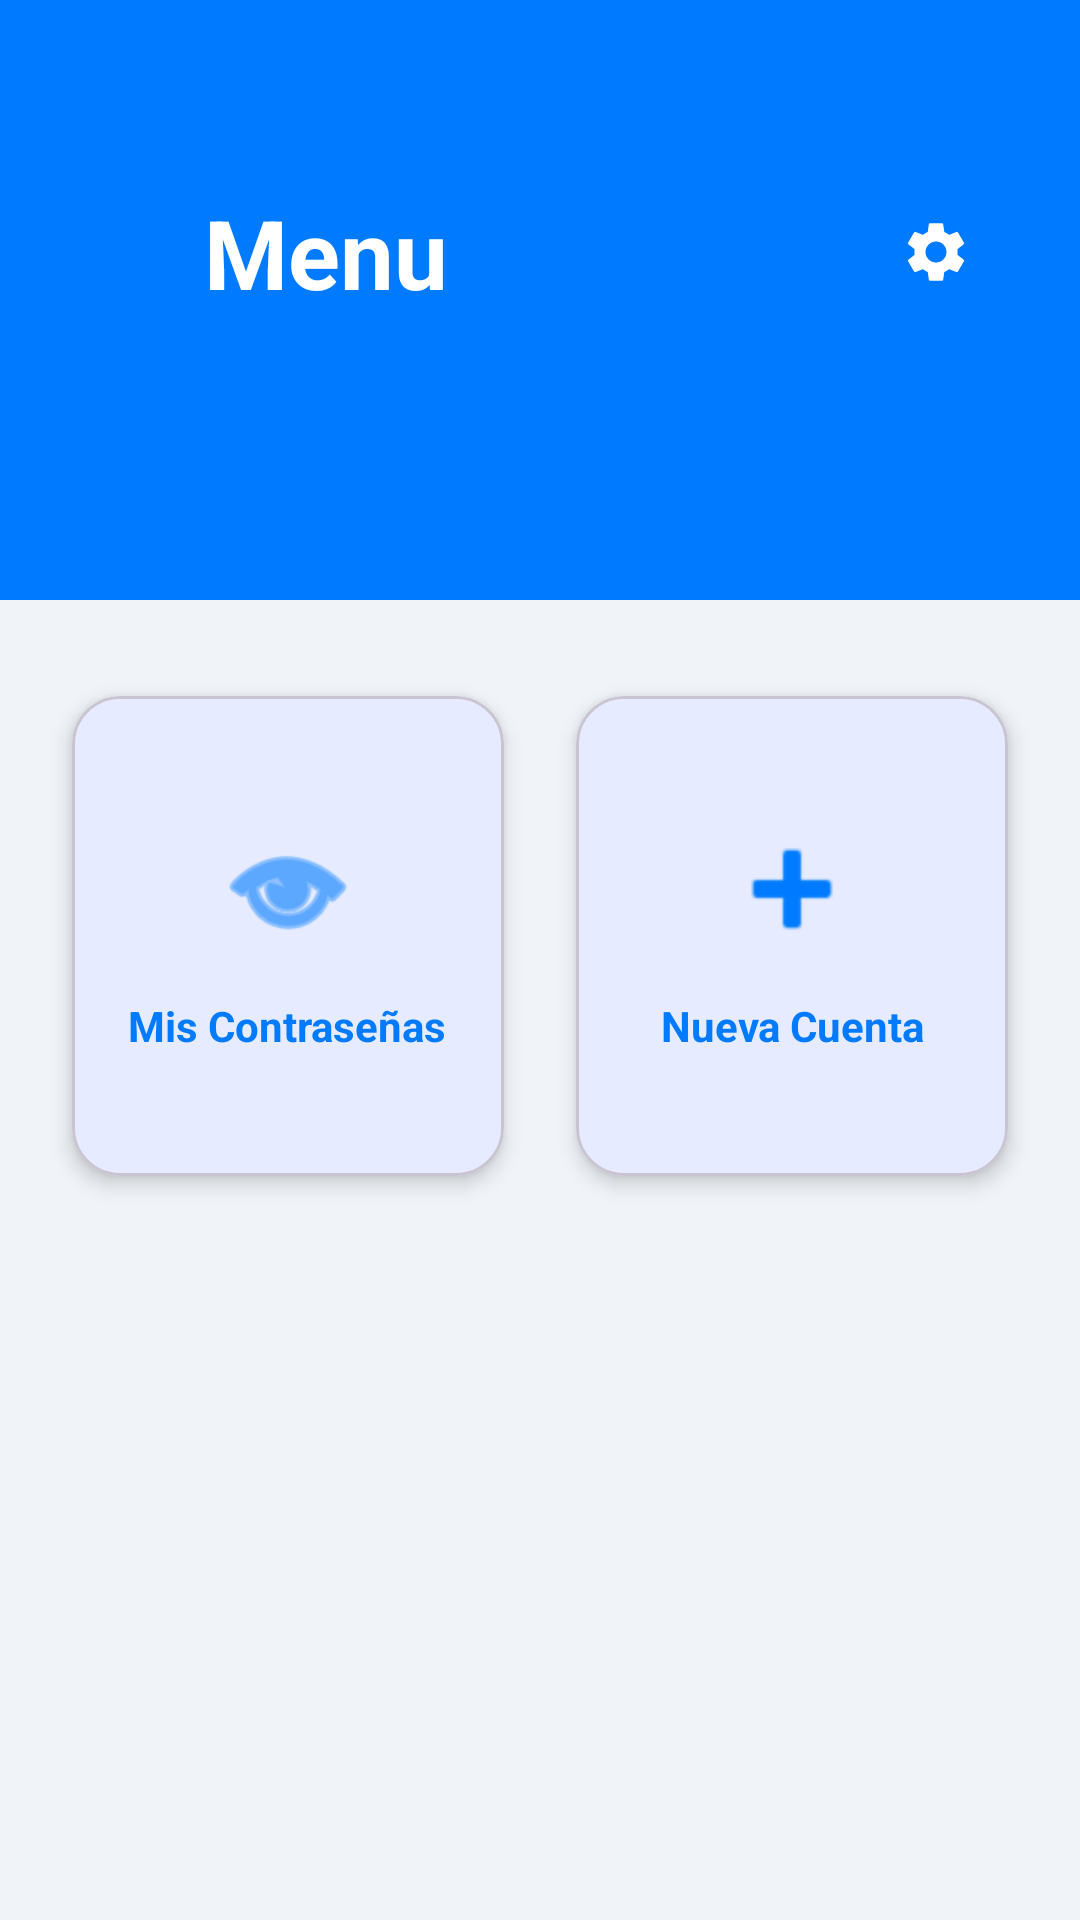

Named icons in this screenshot (1080px×1920px) and their centers, (x,y):
add: (792,889)
gear: (936,252)
view: (288,893)
